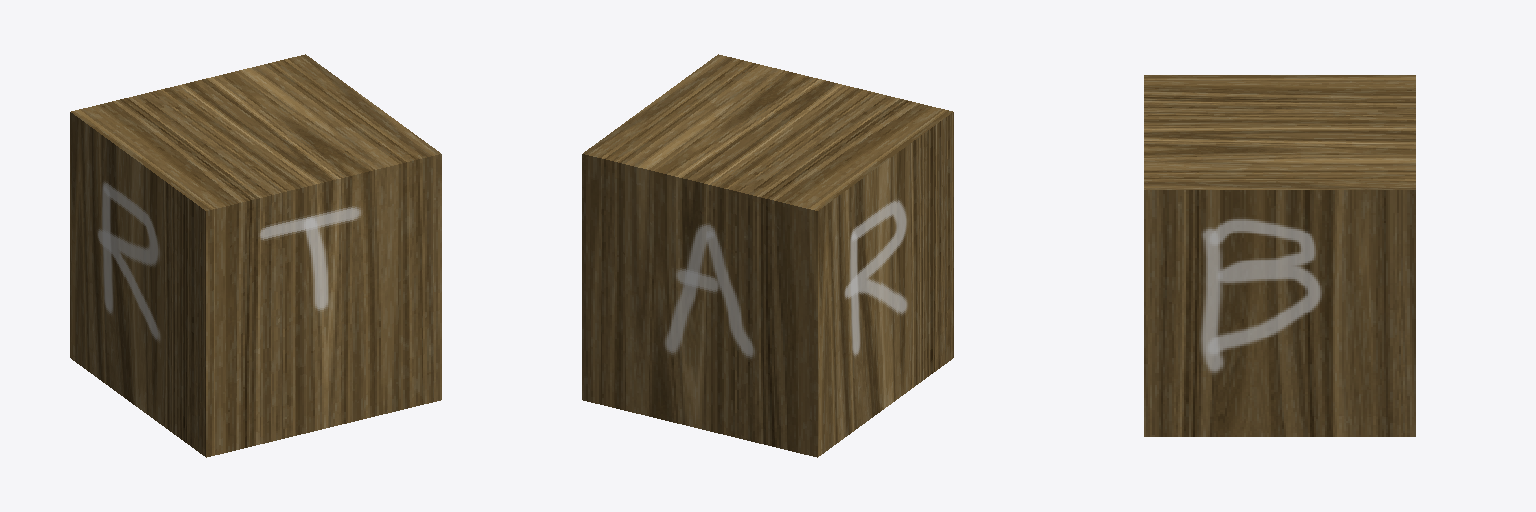
The picture shows the model from 3 angles: view 1: azimuth 30°, elevation 25°; view 2: azimuth 150°, elevation 25°; view 3: azimuth 270°, elevation 25°; orthographic projection.
Visible parts, largest first — view 1: Cube; view 2: Cube; view 3: Cube.
Boxes of the visible parts, <box> form: Cube: <box>70,54,441,457</box>; Cube: <box>582,54,953,457</box>; Cube: <box>1144,75,1415,436</box>.
Bounding box in the file's own units: 2 × 2 × 2.
Materials: 1 (1 with a texture image).